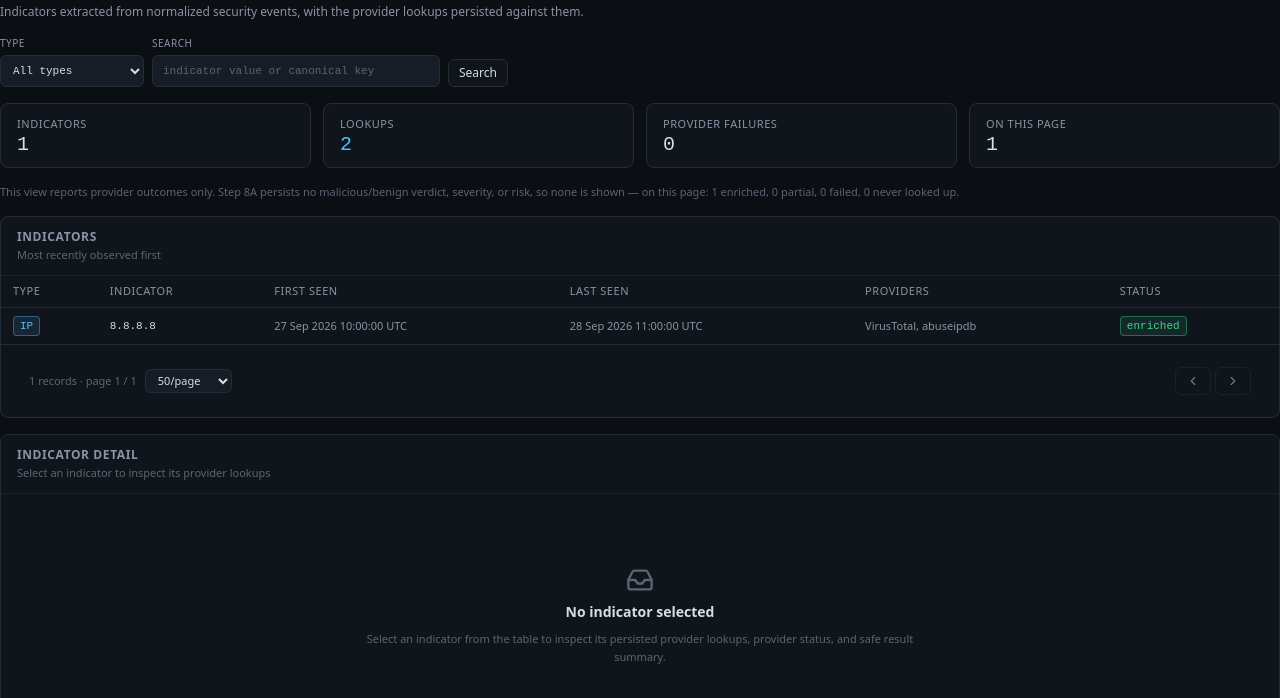
Test: ThreatIntelPage — Step 8A read surface › shows provider status for each lookup in the indicator detail
This screenshot has width=1280, height=698.
Click the row with test id "ti-indicator-row" at (640, 326), box [1, 308, 1279, 344]
(page scrolled)
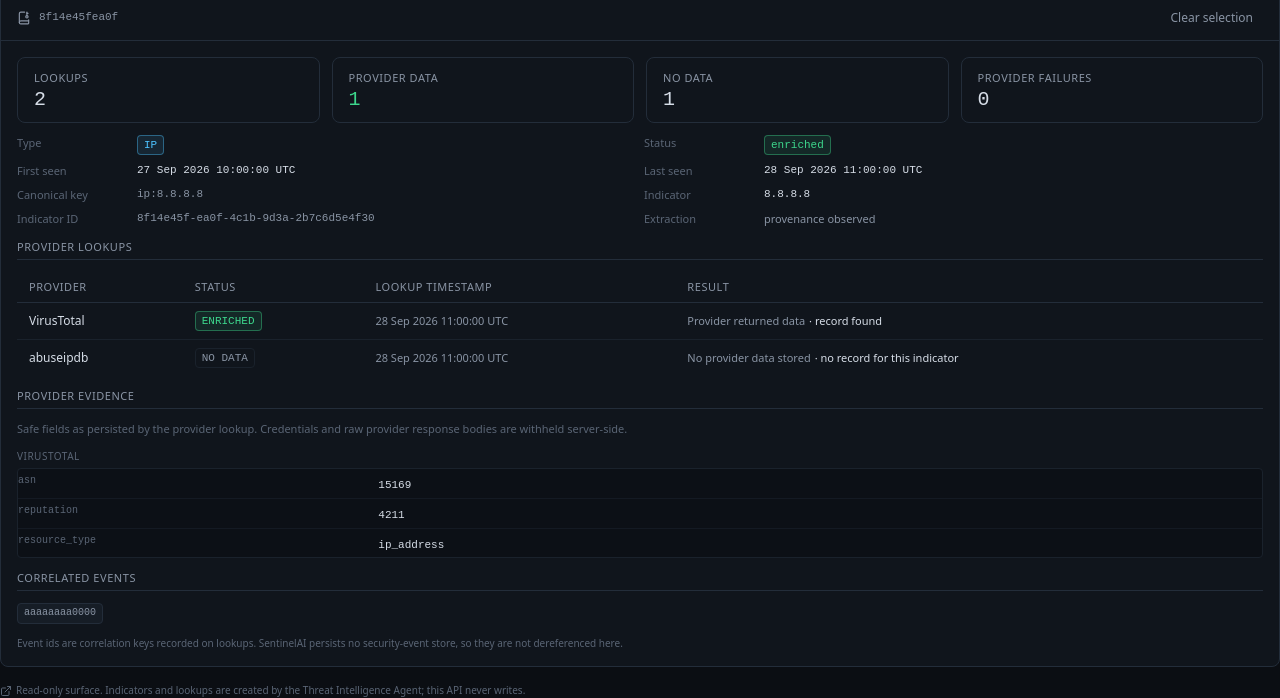
Check: the text with test id "ti-canonical-key" reads "ip:8.8.8.8", box [137, 188, 203, 200]
Check: the element with test id "ti-detail-panel" shows "27 Sep 2026 10:00:00 UTC", box [137, 164, 295, 176]
Check: the element with test id "ti-detail-panel" shows "28 Sep 2026 11:00:00 UTC", box [764, 164, 922, 176]
